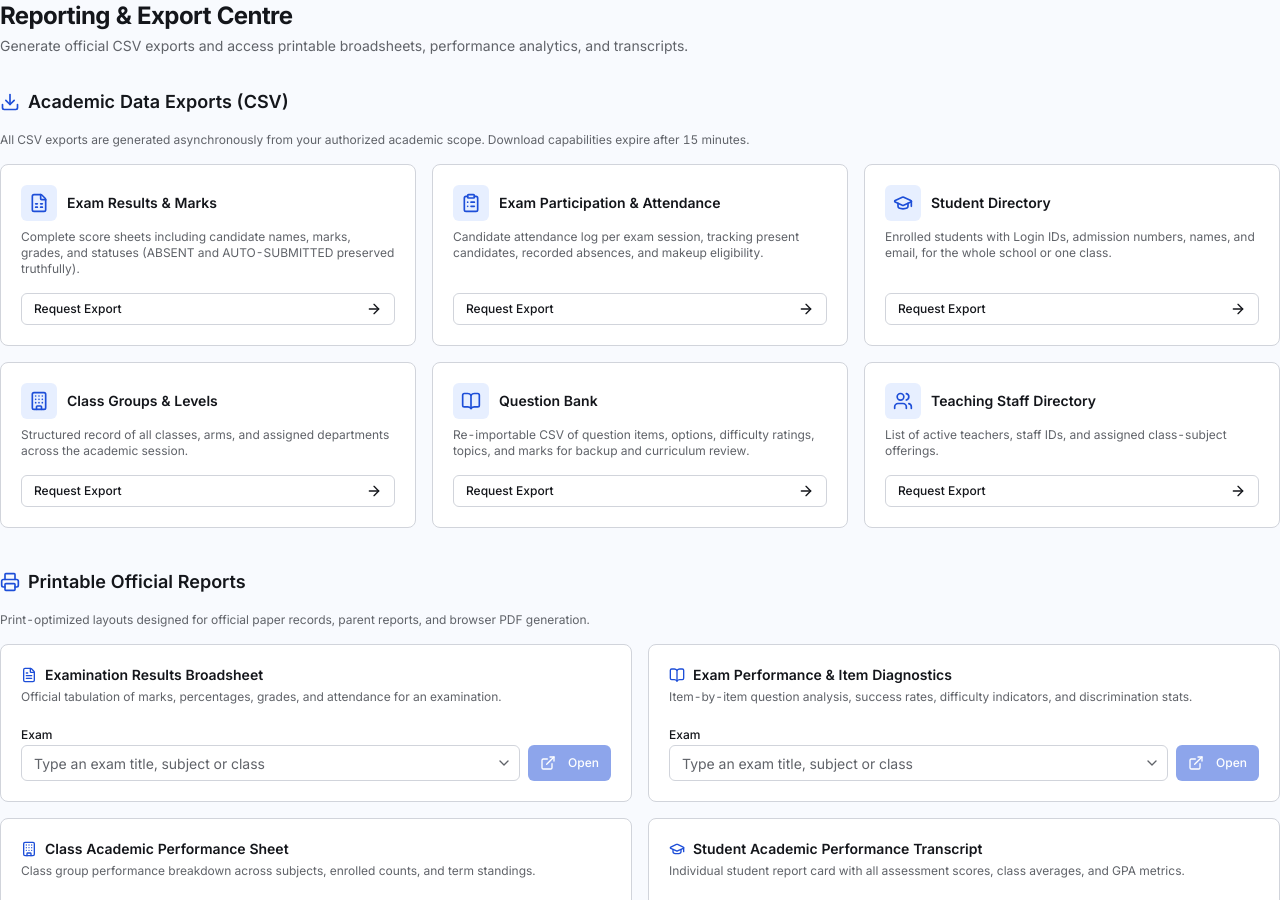
ReportCentreScreen › opens ExportDialog when Request Export button is clicked
The image size is (1280, 900).
Click the button "Request Export" below "Exam Results & Marks" at (78, 308), box [21,293,395,325]
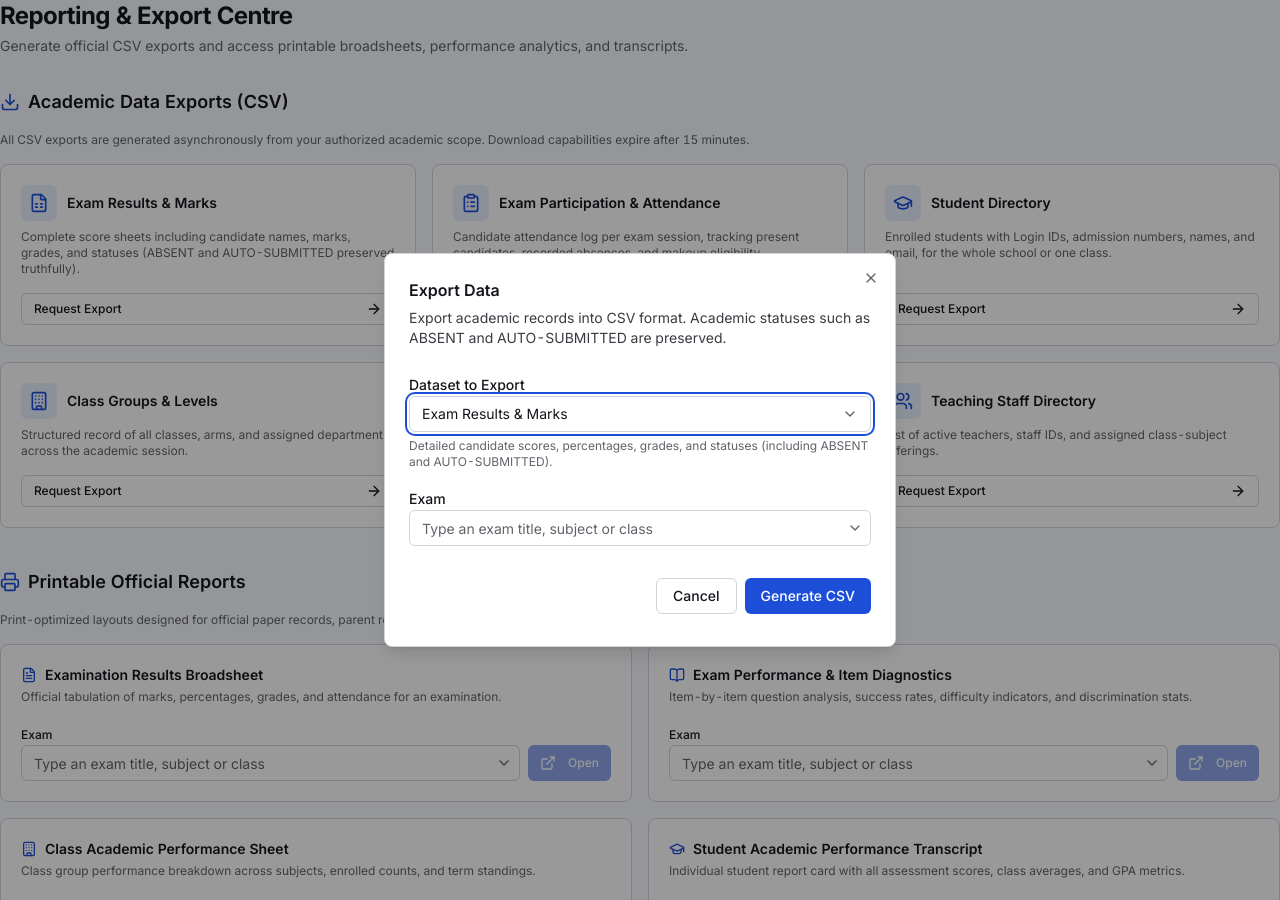
Check: the dialog is shown, box [384,253,896,647]
Check: the heading "Export Data" is shown, box [409,280,500,300]
